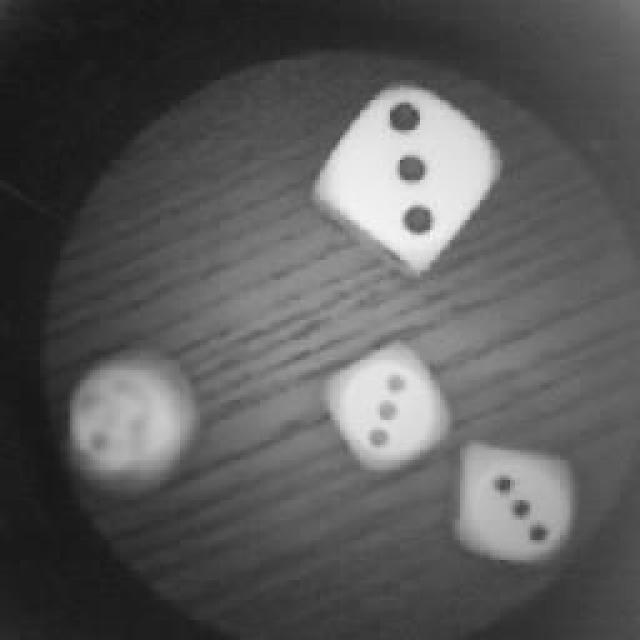dice_3: (322, 80, 502, 270), (320, 343, 450, 475), (452, 438, 582, 568)
